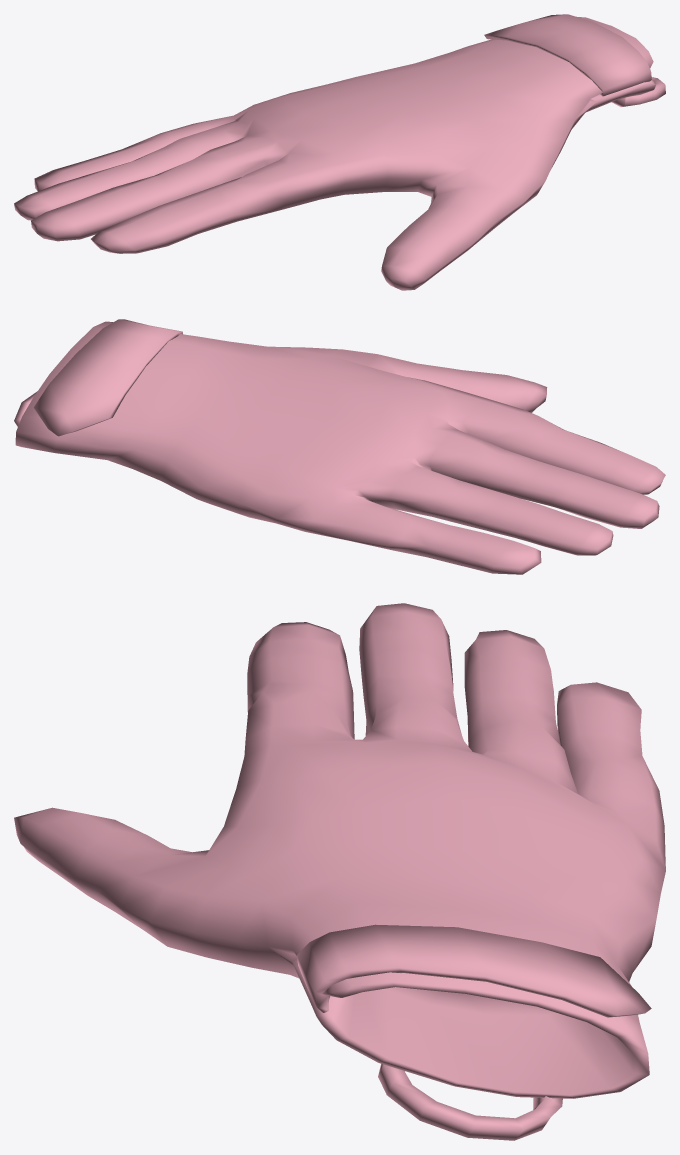
File: Gloves001.fbx
The picture shows the model from 3 angles, top to bottom: view 1: azimuth 30°, elevation 25°; view 2: azimuth 150°, elevation 25°; view 3: azimuth 270°, elevation 25°; orthographic projection. The views are drawn at different scales.
Parts seen in each view (by area): view 1: Gloves001; view 2: Gloves001; view 3: Gloves001.
Boxes of the visible parts, <box> form: Gloves001: <box>14,14,665,290</box>; Gloves001: <box>14,319,665,574</box>; Gloves001: <box>14,603,665,1140</box>.
Size of the model in its own units: 61.58 by 8.25 by 35.05.
